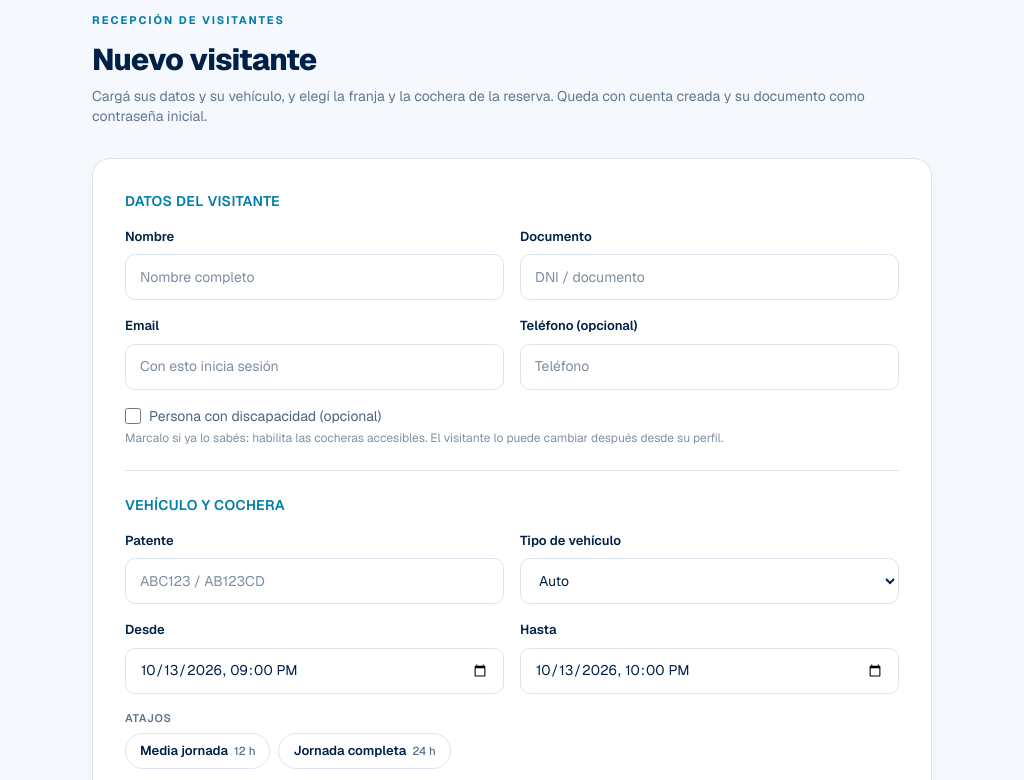
Test: VisitantesContent (alta de visitante con reserva) › el horario se redondea al bloque de 15 mas cercano al salir del campo
Replace the text in the field labelled "Hasta" with "2099-01-01T18:23" at (710, 671), box [520,648,899,694]
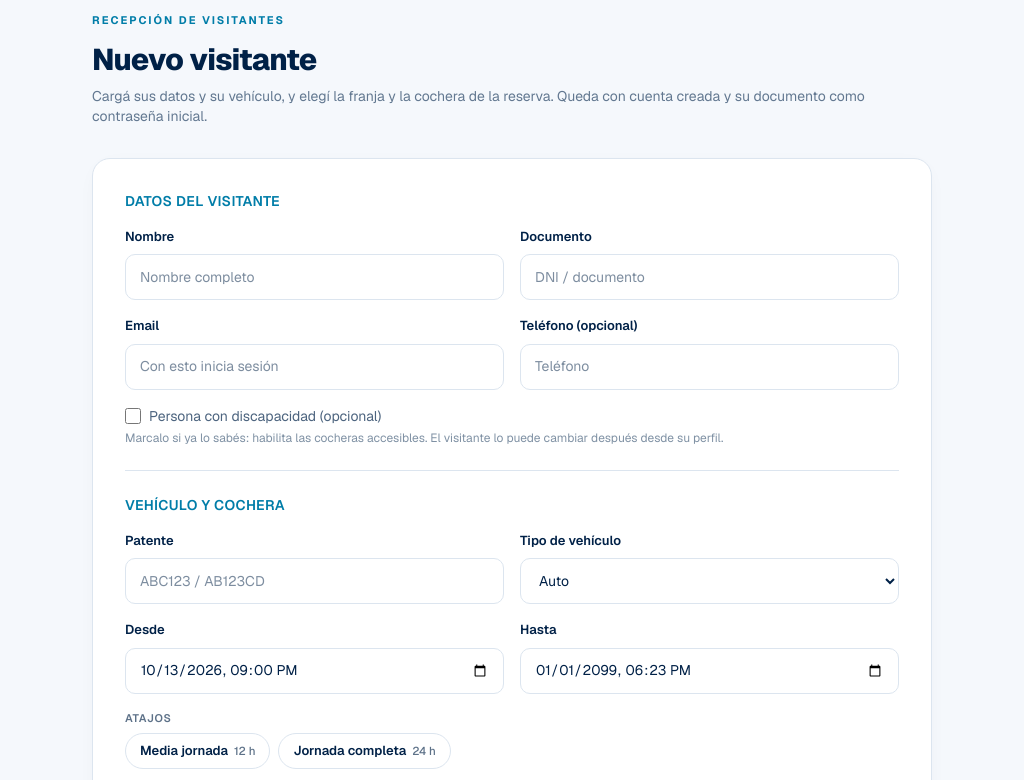
Leave the field labelled "Hasta", box [520,648,899,694]
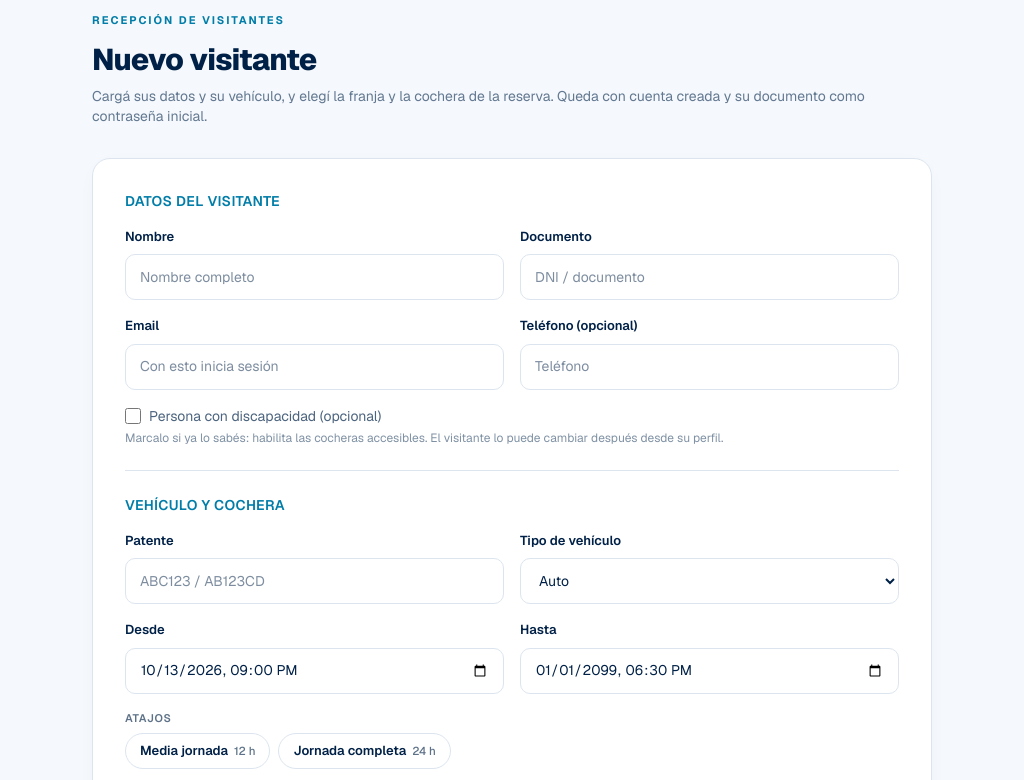
Check: the field labelled "Hasta" holds "2099-01-01T18:30", box [520,648,899,694]
